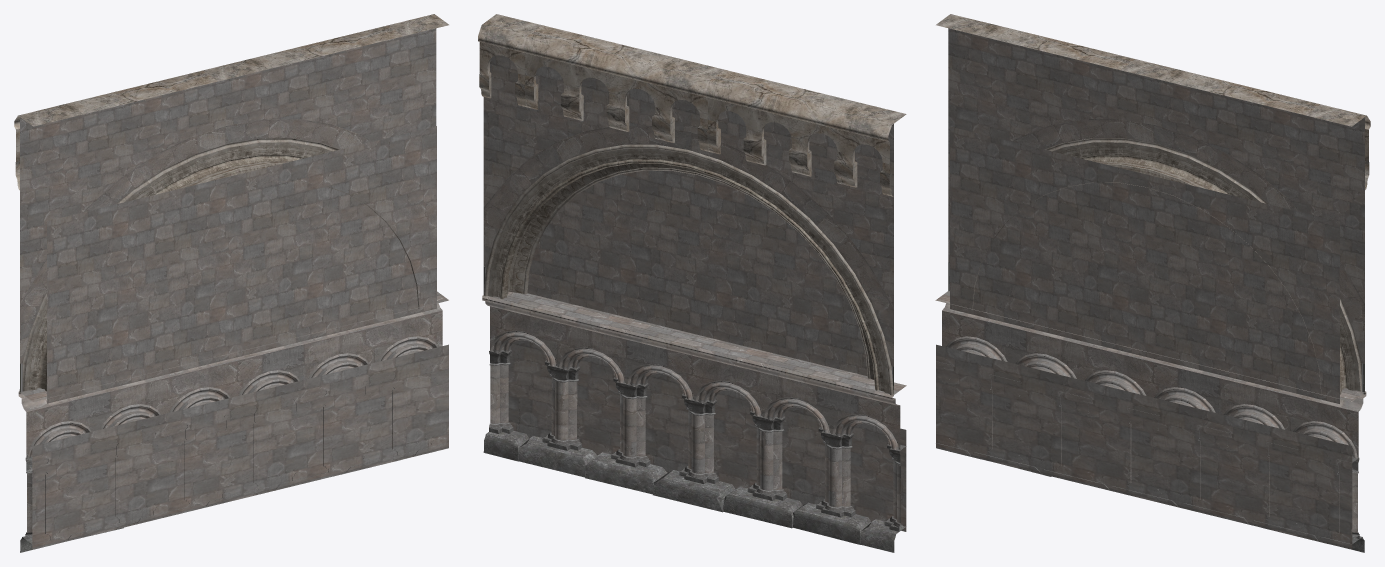
The picture shows the model from 3 angles, left to right: view 1: azimuth 30°, elevation 25°; view 2: azimuth 150°, elevation 25°; view 3: azimuth 330°, elevation 25°; orthographic projection.
Parts seen in each view (by area): view 1: SM_DungeonWall_v3_LOD0; view 2: SM_DungeonWall_v3_LOD0; view 3: SM_DungeonWall_v3_LOD0.
Part boxes in pixels (x1,y1,x2,y2): SM_DungeonWall_v3_LOD0: (14, 14, 448, 552); SM_DungeonWall_v3_LOD0: (478, 14, 906, 552); SM_DungeonWall_v3_LOD0: (935, 14, 1370, 552).
Bounding box in the file's own units: 6 × 6 × 0.4737.
Materials: 4 (4 with a texture image).
